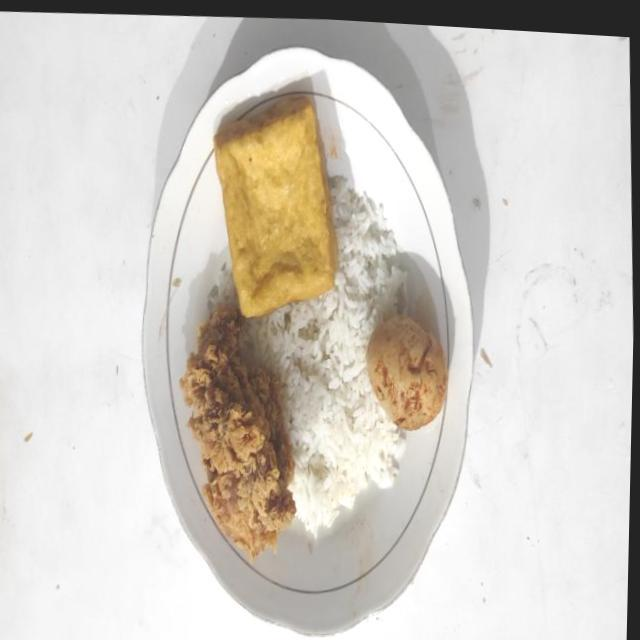nasi_putih: (240, 175, 407, 536)
tahu_goreng: (214, 95, 337, 316)
